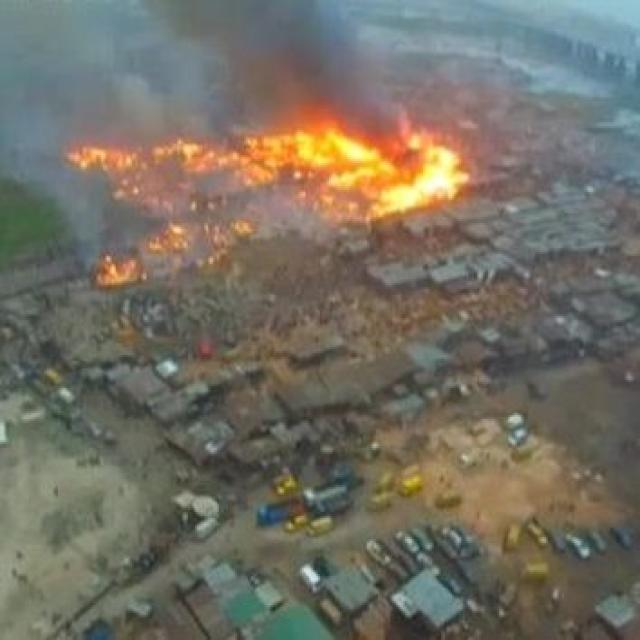Fire: (138, 120, 464, 274)
Smoke: (1, 0, 432, 167)
